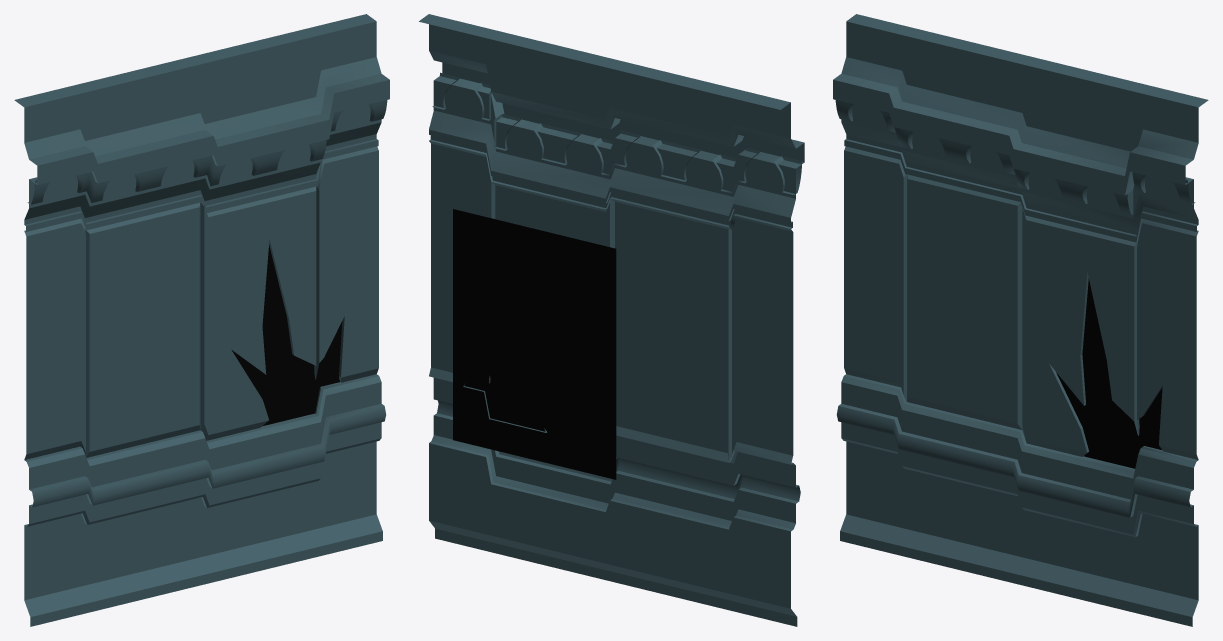
The model's file is Wall_Anxi_C.fbx.
3 renders of one model, left to right at view 1: azimuth 30°, elevation 25°; view 2: azimuth 150°, elevation 25°; view 3: azimuth 330°, elevation 25°, orthographic. The views are drawn at different scales.
Visible parts, largest first — view 1: Wall_Mirror_Crooked_HoleA2; view 2: Wall_Mirror_Crooked_HoleA2; view 3: Wall_Mirror_Crooked_HoleA2.
Part boxes in pixels (<box>): Wall_Mirror_Crooked_HoleA2: <box>14,14,389,626</box>; Wall_Mirror_Crooked_HoleA2: <box>419,14,804,626</box>; Wall_Mirror_Crooked_HoleA2: <box>833,14,1208,626</box>.
Size of the model in its own units: 20 by 27.92 by 2.29.
